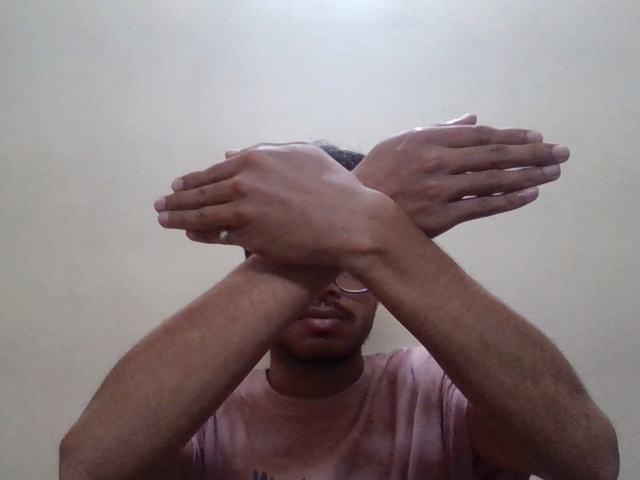feel: (161, 105, 600, 317)
